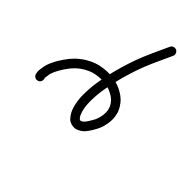a: (70, 56, 124, 135)
n: (33, 52, 120, 88)
t: (99, 43, 178, 88)
